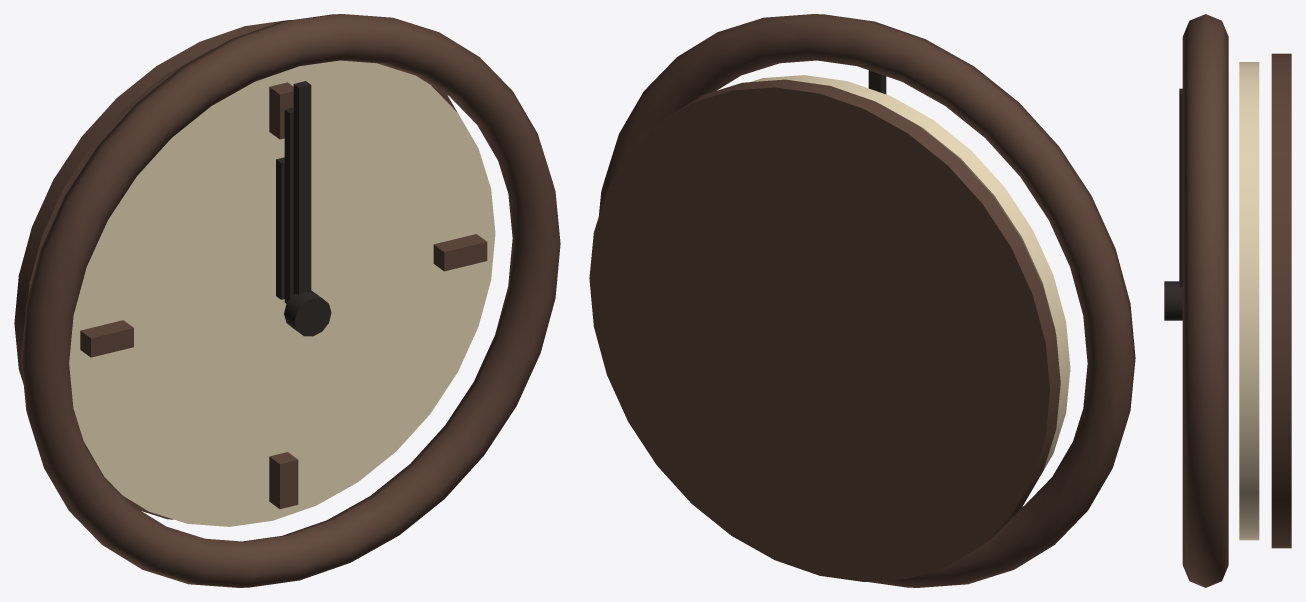
3 views of the same model, side by side, from view 1: azimuth 30°, elevation 25°; view 2: azimuth 150°, elevation 25°; view 3: azimuth 270°, elevation 25° (orthographic). The views are drawn at different scales.
Visible parts, largest first — view 1: clock-face, clock-round-rim, clock-back, clock-second-hand, clock-minute-hand, clock-center-cap, clock-marker-3, clock-marker-2, clock-marker-4, clock-hour-hand, clock-marker-1; view 2: clock-back, clock-round-rim, clock-face; view 3: clock-round-rim, clock-back, clock-face, clock-second-hand, clock-center-cap.
Boxes of the visible parts, x1,y1,x2,y2 form: clock-face: (69,60,495,526); clock-round-rim: (21,14,560,587); clock-back: (14,20,457,519); clock-second-hand: (293,81,311,294); clock-minute-hand: (284,107,293,303); clock-center-cap: (284,290,331,336); clock-marker-3: (269,452,298,508); clock-marker-2: (433,234,487,271); clock-marker-4: (80,320,133,357); clock-hour-hand: (276,157,284,299); clock-marker-1: (269,82,293,139); clock-back: (589,79,1060,581); clock-round-rim: (599,14,1135,587); clock-face: (751,75,1070,470); clock-round-rim: (1182,14,1228,587); clock-back: (1271,53,1291,548); clock-face: (1239,62,1259,540); clock-second-hand: (1179,88,1182,287); clock-center-cap: (1164,281,1182,320).
Bounding box in the file's own units: 0.348 × 0.348 × 0.077.
